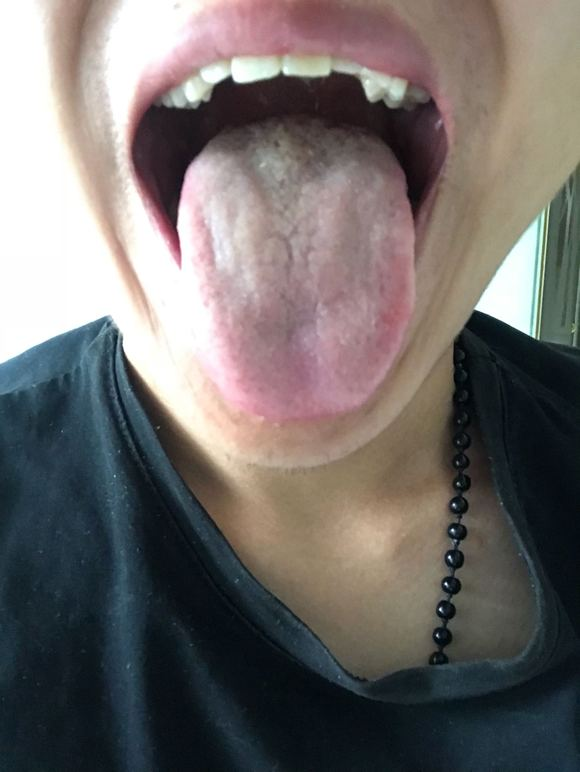baitaishe: (176, 115, 415, 422)
liewenshe: (263, 204, 323, 283)
